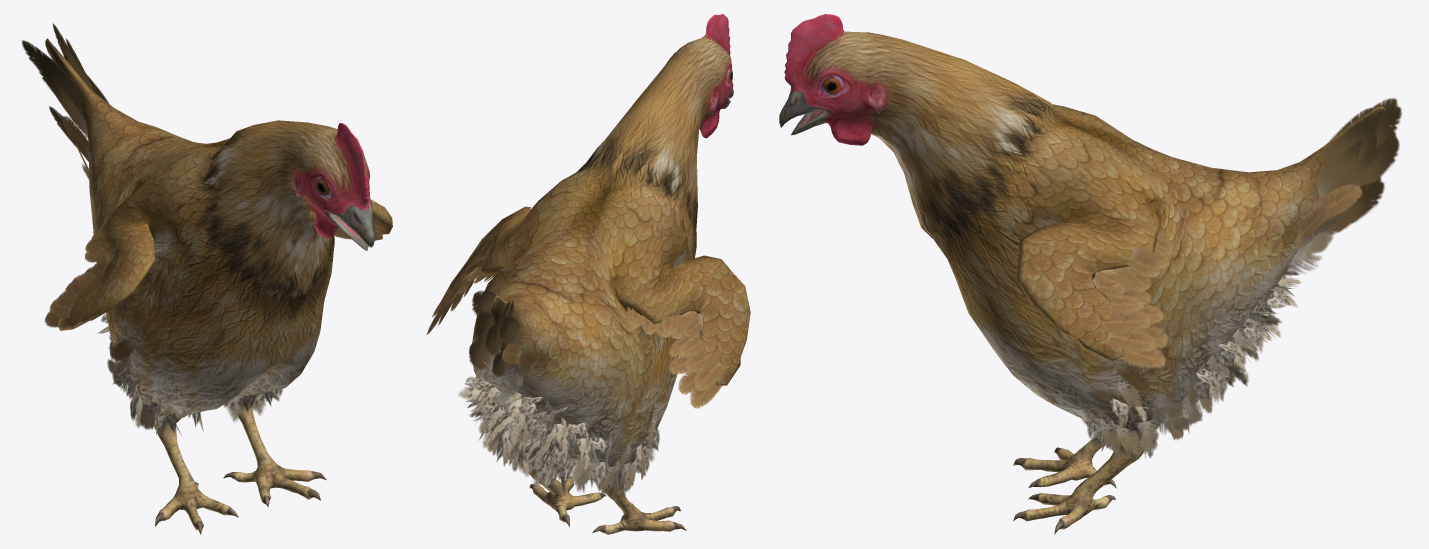
The model's file is chicken_vn.glb.
3 renders of one model, left to right at view 1: azimuth 30°, elevation 25°; view 2: azimuth 150°, elevation 25°; view 3: azimuth 270°, elevation 25°, orthographic. The views are drawn at different scales.
Visible parts, largest first — view 1: chicken_vn; view 2: chicken_vn; view 3: chicken_vn.
Boxes of the visible parts, x1,y1,x2,y2 form: chicken_vn: (21,23,392,534); chicken_vn: (426,14,750,534); chicken_vn: (779,14,1401,534).
Bounding box in the file's own units: 0.3229 × 0.45 × 0.5386.
Materials: 1 (1 with a texture image).
